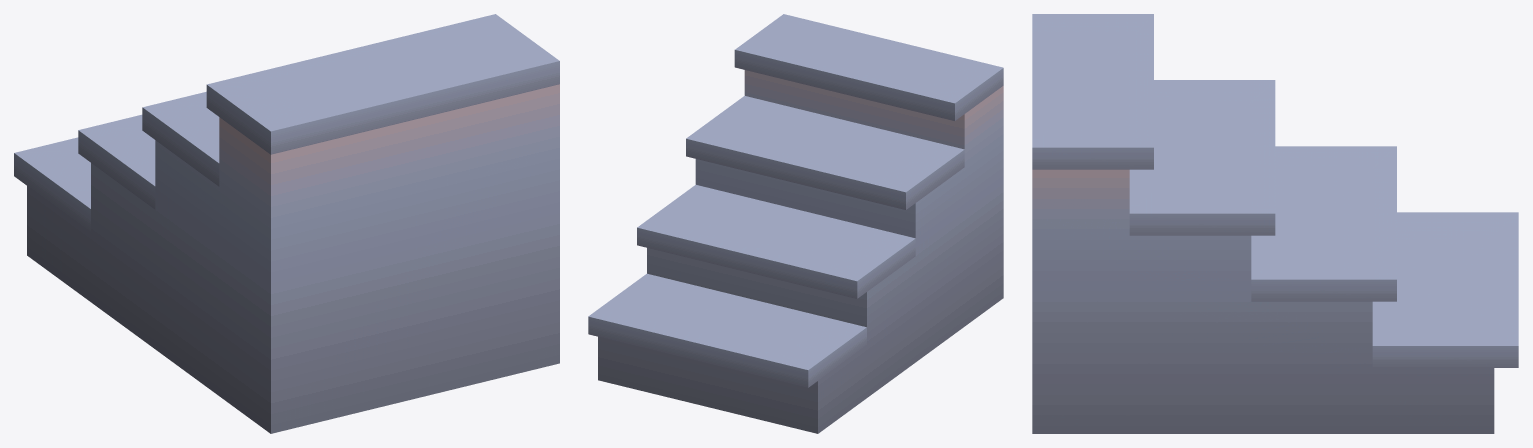
File: cc0_steps_stone.glb
The picture shows the model from 3 angles, left to right: view 1: azimuth 30°, elevation 25°; view 2: azimuth 150°, elevation 25°; view 3: azimuth 270°, elevation 25°; orthographic projection. The views are drawn at different scales.
Visible parts, largest first — view 1: stairs-closed-short; view 2: stairs-closed-short; view 3: stairs-closed-short.
Boxes of the visible parts, x1,y1,x2,y2 form: stairs-closed-short: (14, 14, 559, 433); stairs-closed-short: (588, 14, 1003, 433); stairs-closed-short: (1032, 14, 1518, 433).
Size of the model in its own units: 1.3 by 1.3 by 2.
Materials: 1 (1 with a texture image).
